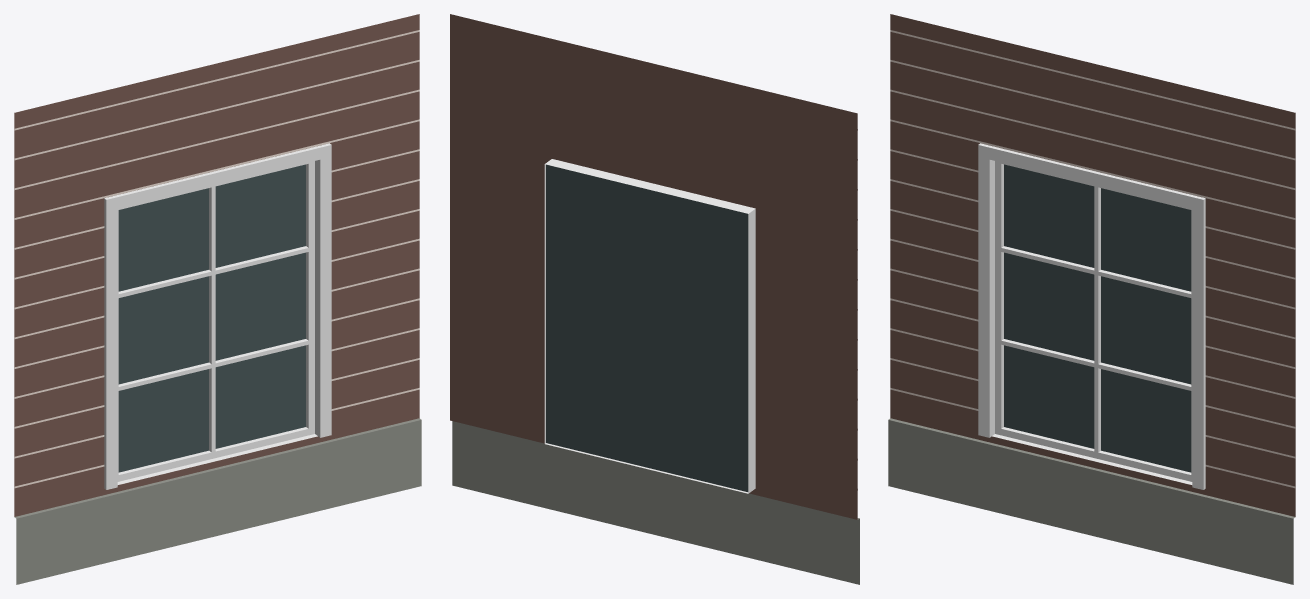
The model's file is base-w3_close.fbx.
3 views of the same model, side by side, from view 1: azimuth 30°, elevation 25°; view 2: azimuth 150°, elevation 25°; view 3: azimuth 330°, elevation 25° (orthographic).
Visible parts, largest first — view 1: a2000s2/800/base-w3_close; view 2: a2000s2/800/base-w3_close; view 3: a2000s2/800/base-w3_close.
Part boxes in pixels (left/top/right/bottom): a2000s2/800/base-w3_close: left=14, top=14, right=421, bottom=584; a2000s2/800/base-w3_close: left=450, top=14, right=859, bottom=584; a2000s2/800/base-w3_close: left=888, top=14, right=1295, bottom=584.
Bounding box in the file's own units: 3.2 × 3.55 × 0.13.
